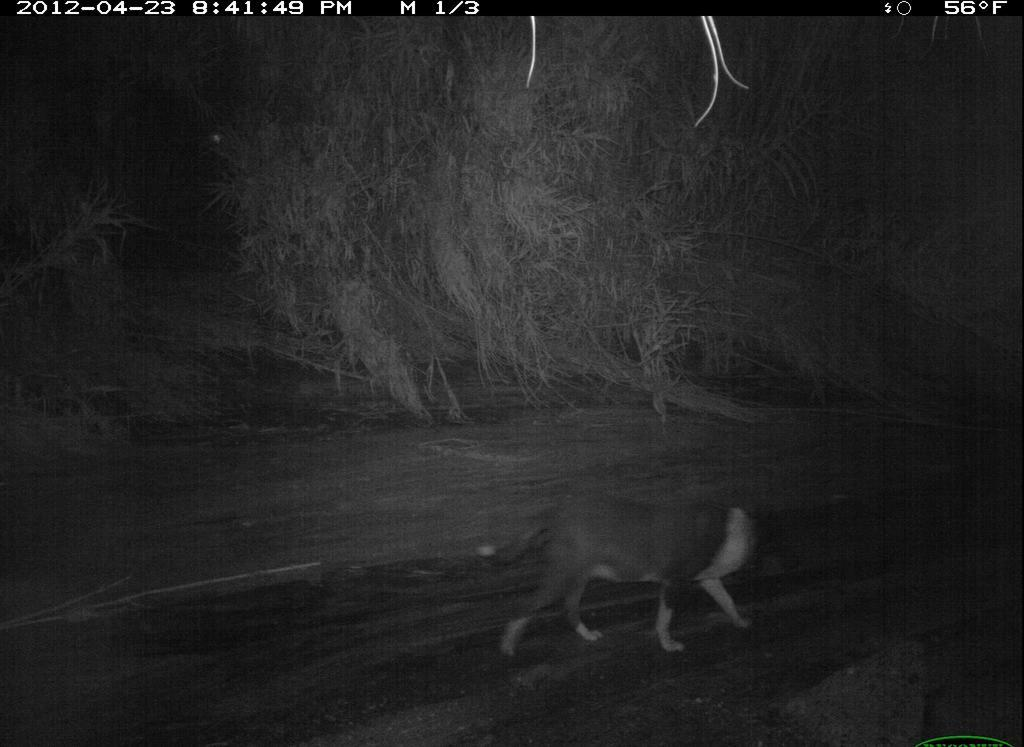dog: (473, 492, 797, 660)
